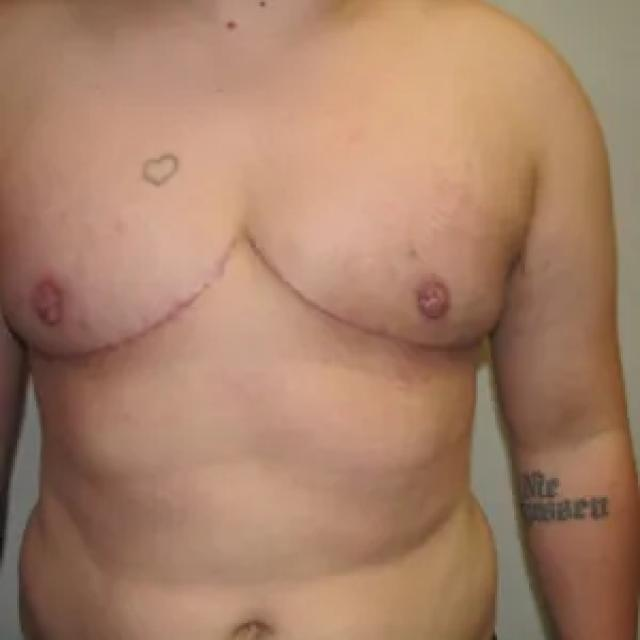Seno herido: (256, 180, 514, 374), (1, 182, 247, 376)
